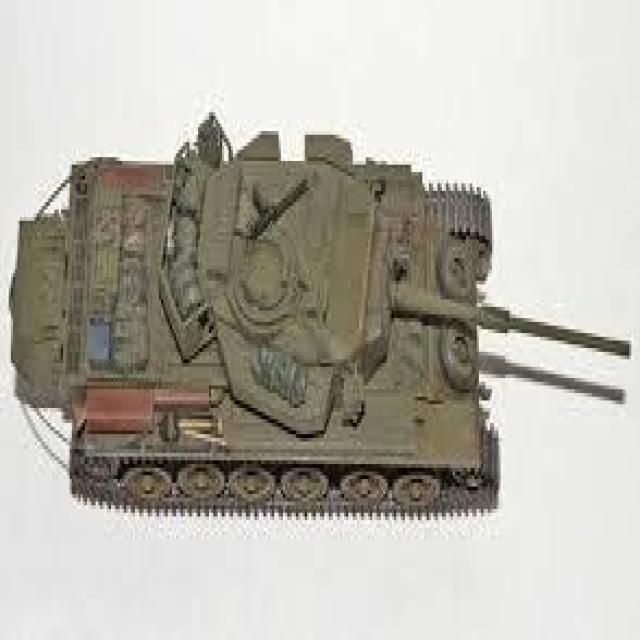MIL_MBT: (16, 125, 632, 533)
